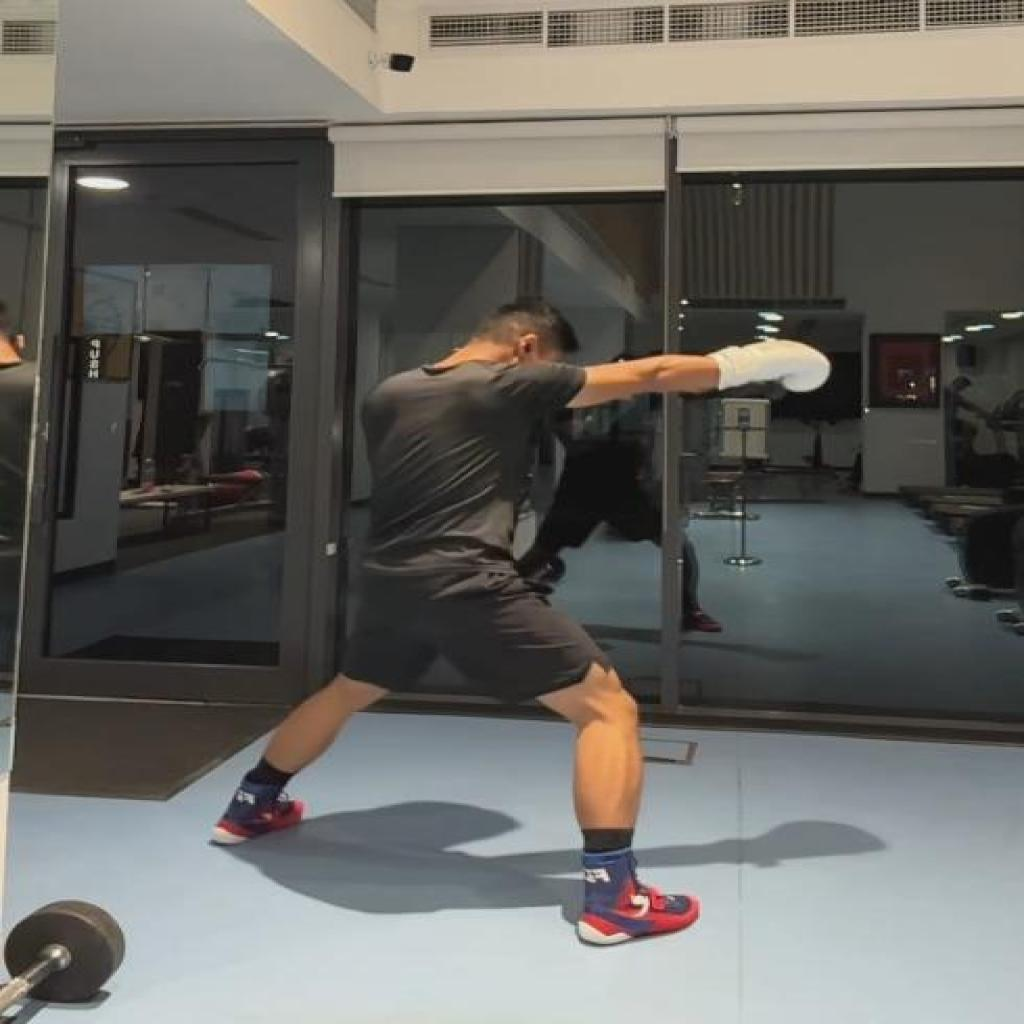jab: (213, 294, 836, 952)
